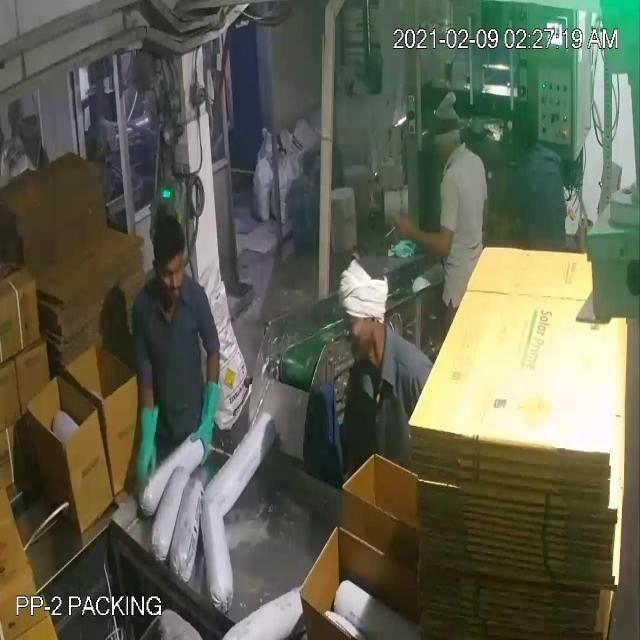Gloves: (36, 86, 422, 446)
